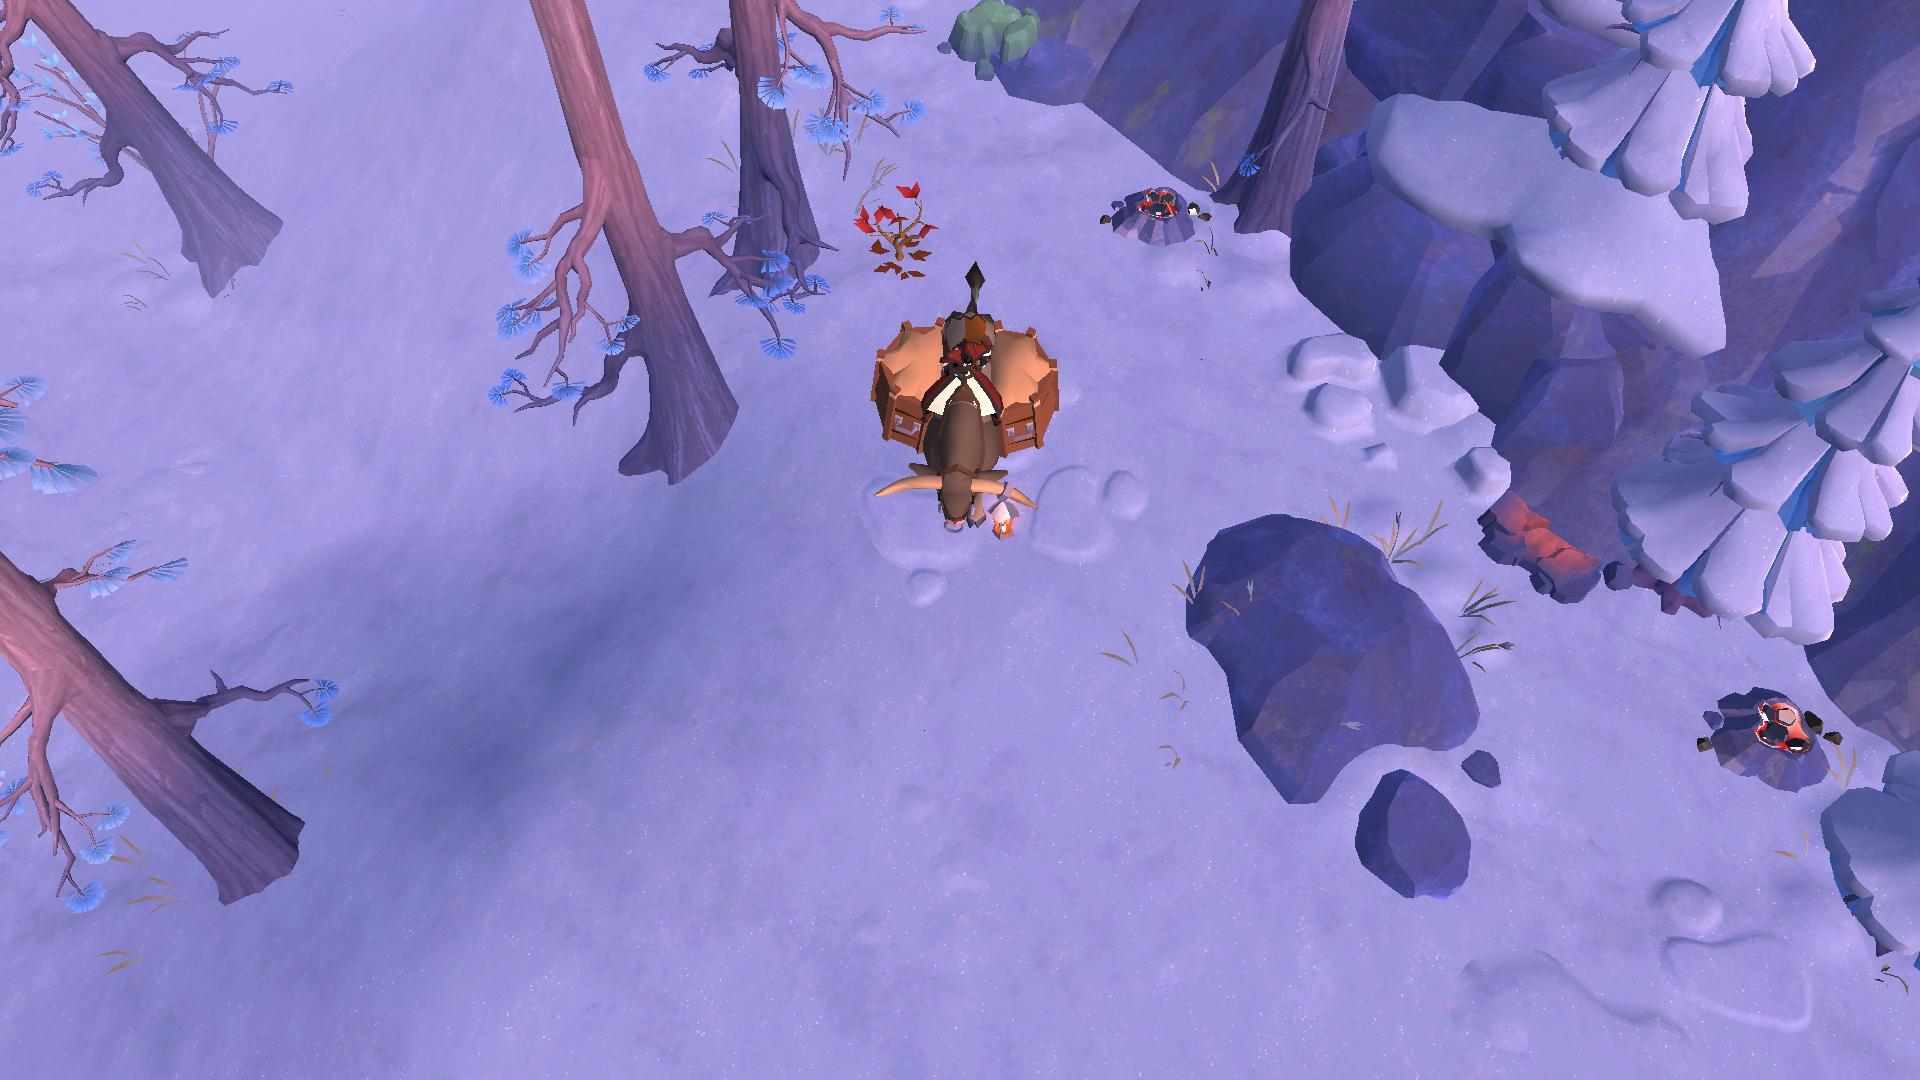rock_t3: (934, 0, 1058, 84)
